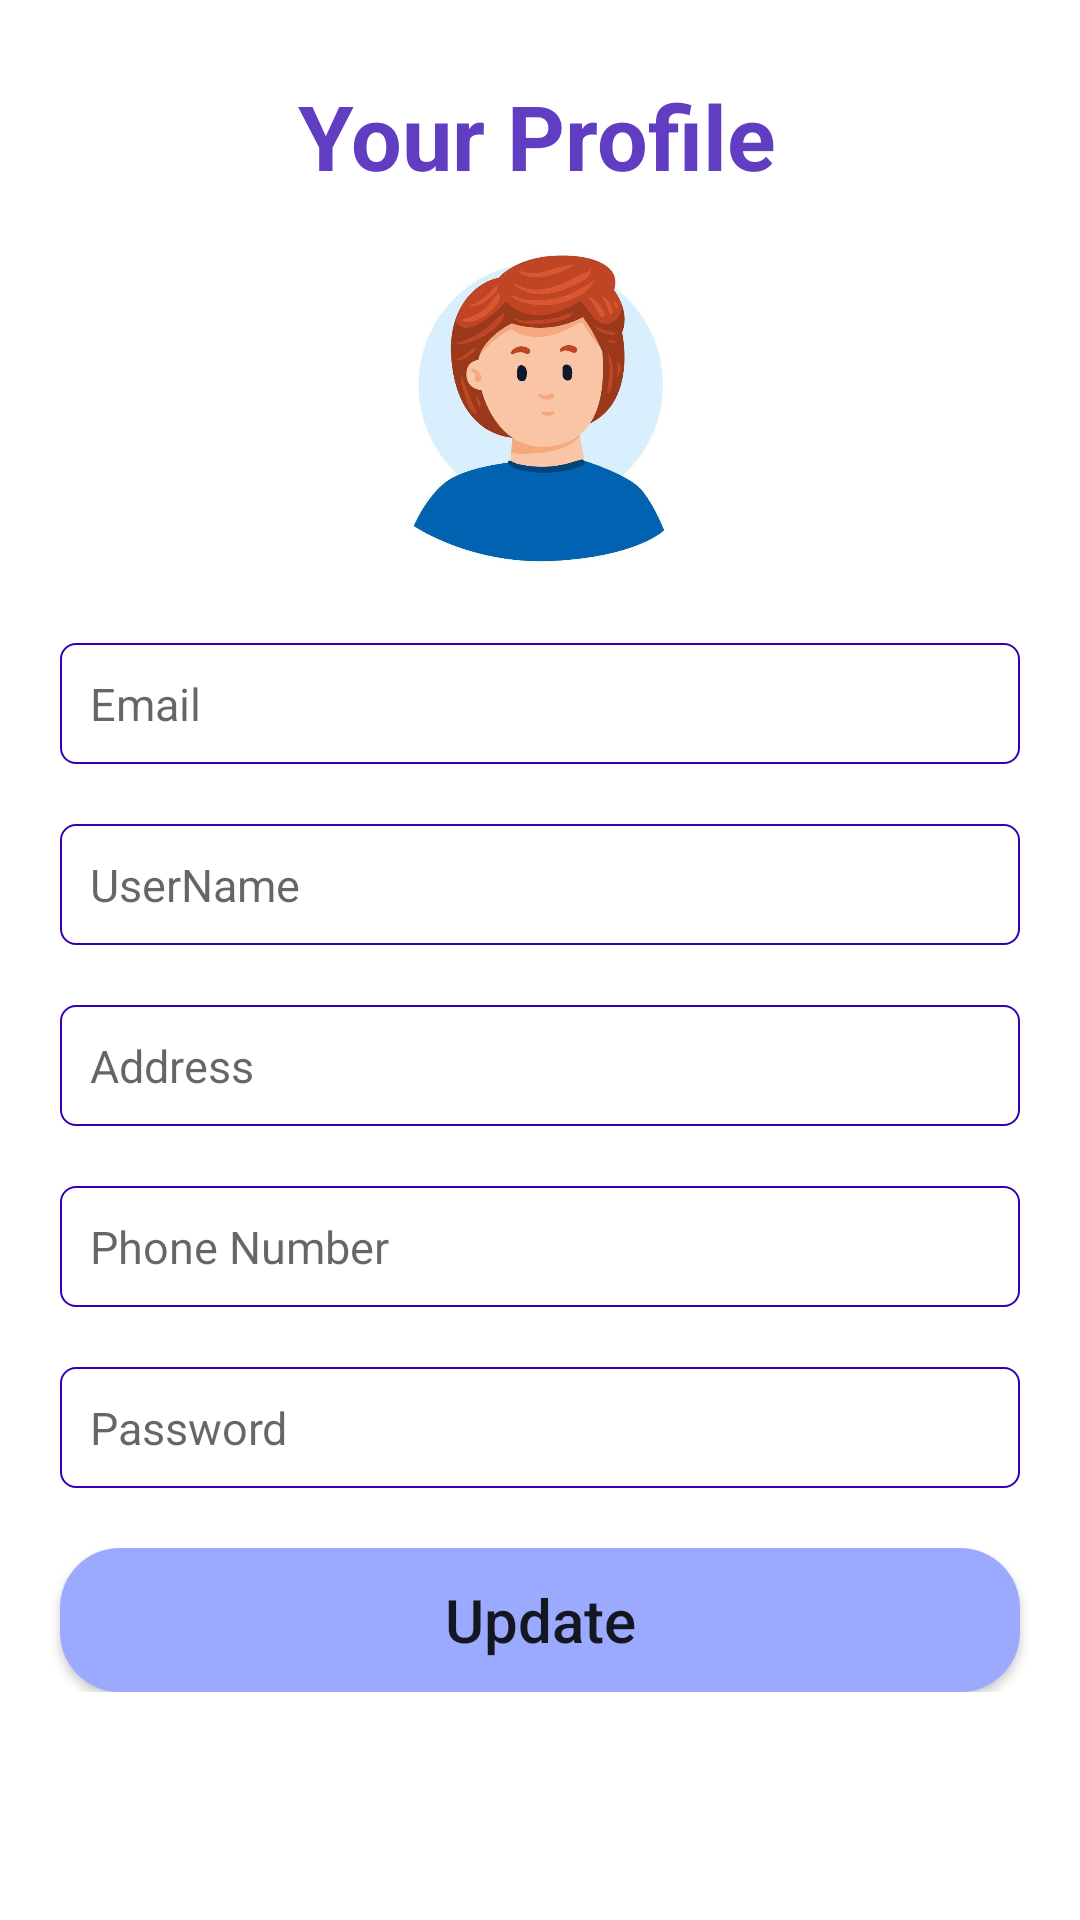

Screen size 1080px x 1920px. Icon name, then its box in pixels as (x1, y1, x2, y2):
profilepic: (413, 255, 664, 562)
